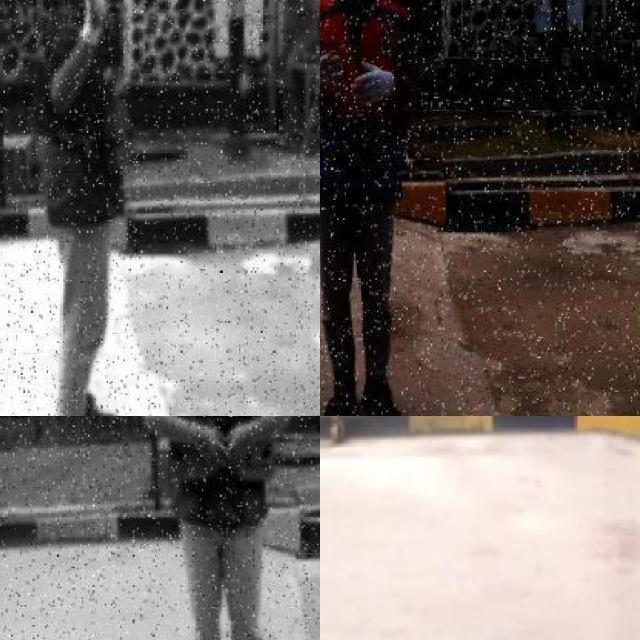apron: (348, 55, 397, 108), (82, 0, 107, 54), (320, 37, 341, 94)
